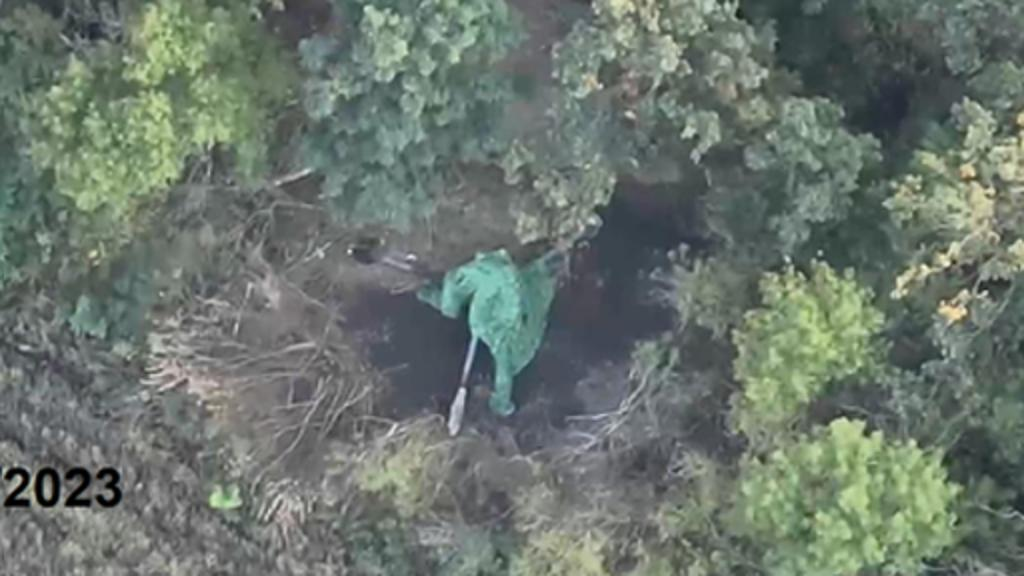ART: (358, 222, 594, 442)
